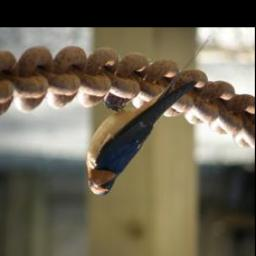Swallow: (84, 34, 214, 197)
